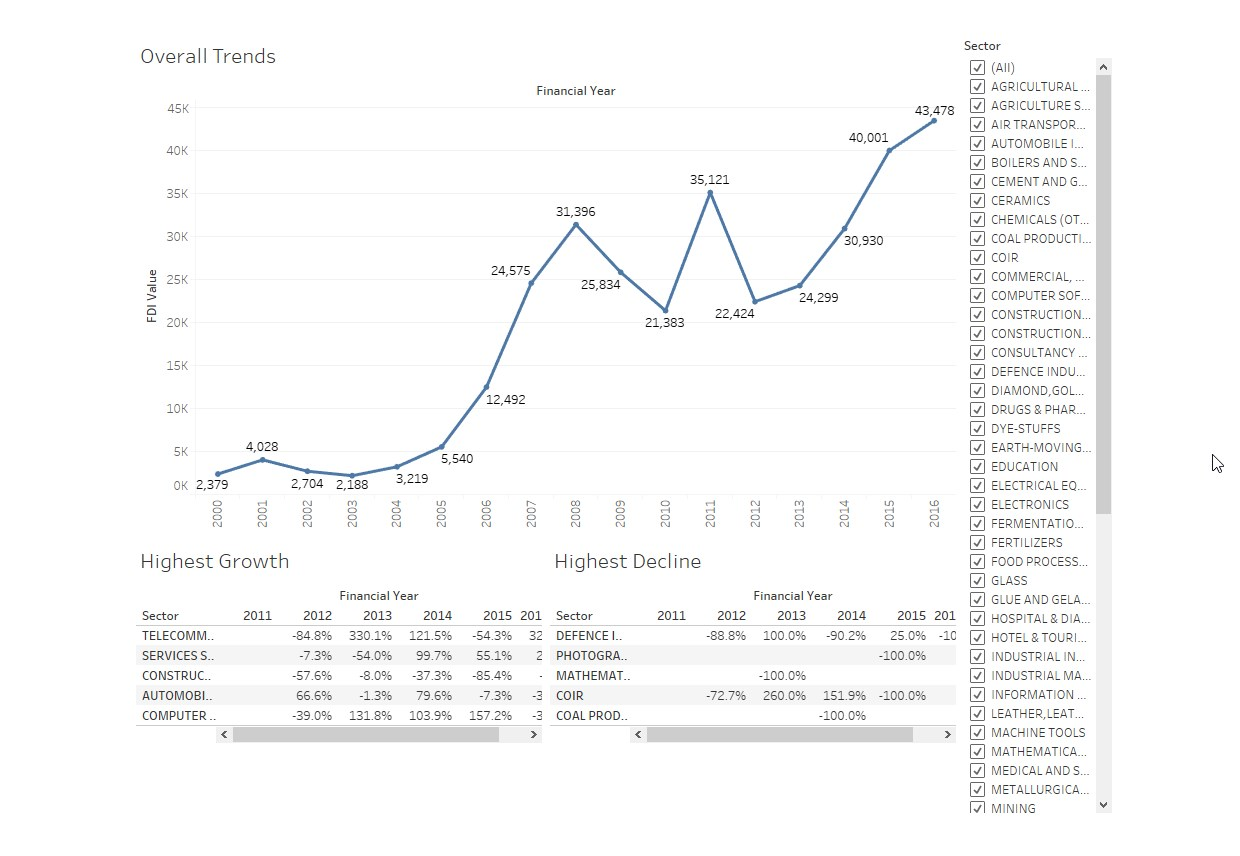

The page's visual inventory and layout, read from the dashboard file:
{"tool":"tableau","page":{"name":"Dashboard 2","canvas":[1000,800],"ordinal":1},"visuals":[{"type":"worksheet","title":"Overall Trends","mark":"Automatic","rows":["Pivot Field Values"],"cols":["Calculation_796855694231257088"],"box":[8,8,828,505]},{"type":"filter","title":"Overall Trends","param":"[federated.1s35yo31hqfg2m1gu4znp0r8fspq].[none:Sector:nk]","box":[836,8,156,784]},{"type":"worksheet","title":"Highest Growth","mark":"Automatic","rows":["Sector"],"cols":["Calculation_796855694231257088"],"box":[8,513,414,279]},{"type":"worksheet","title":"Highest Decline","mark":"Automatic","rows":["Sector"],"cols":["Calculation_796855694231257088"],"box":[422,513,414,279]}]}

Visuals, with their boxes on the page's 1000x800 design canvas (x1, y1, x2, y2). These are canvas units, not pixel positions in the 1240x856 screenshot, which may show the page scaled, cropped or inside an application window:
"Overall Trends" worksheet: <bbox>8, 8, 836, 513</bbox>
"Overall Trends" filter: <bbox>836, 8, 992, 792</bbox>
"Highest Growth" worksheet: <bbox>8, 513, 422, 792</bbox>
"Highest Decline" worksheet: <bbox>422, 513, 836, 792</bbox>
